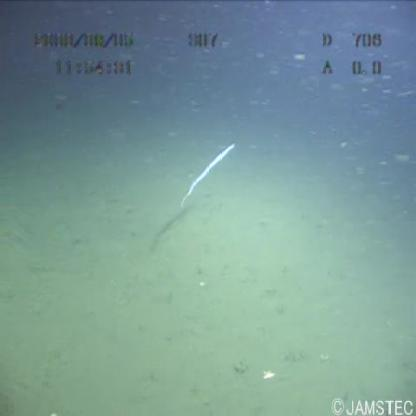Bio: (172, 136, 238, 210)
